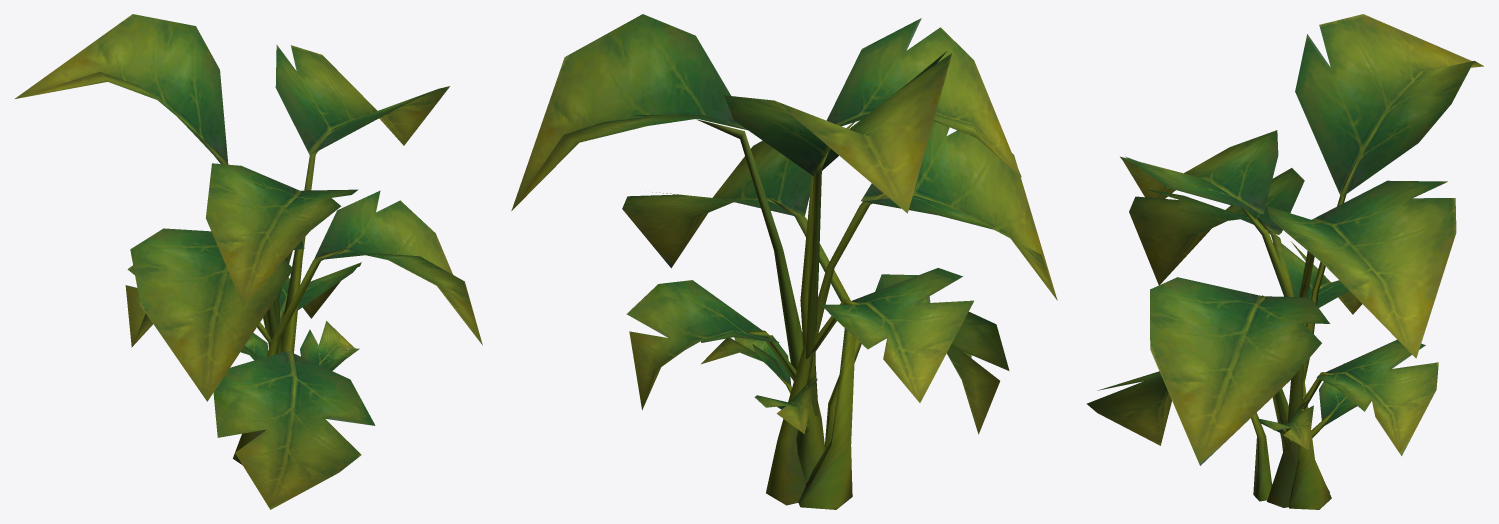
The model's file is lumina_natural_grass02.FBX.
3 views of the same model, side by side, from view 1: azimuth 30°, elevation 25°; view 2: azimuth 150°, elevation 25°; view 3: azimuth 270°, elevation 25° (orthographic). The views are drawn at different scales.
Visible parts, largest first — view 1: lumina_natural_grass02; view 2: lumina_natural_grass02; view 3: lumina_natural_grass02.
Boxes of the visible parts, x1,y1,x2,y2 form: lumina_natural_grass02: (15,14,482,509); lumina_natural_grass02: (511,14,1057,509); lumina_natural_grass02: (1086,14,1483,509).
Size of the model in its own units: 1.39 by 1.47 by 1.29.
